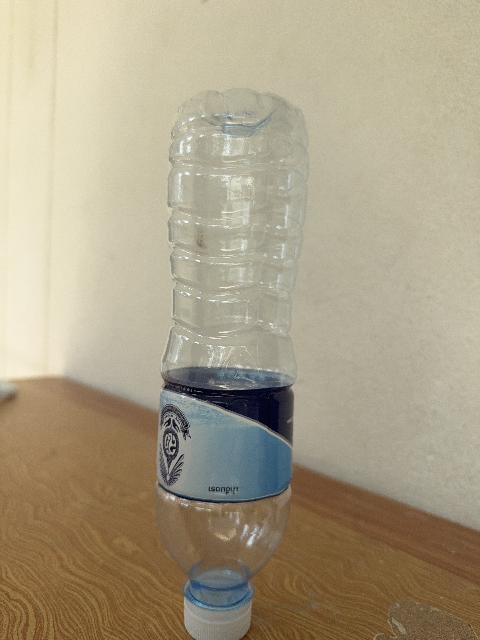bottle: (156, 90, 308, 639)
